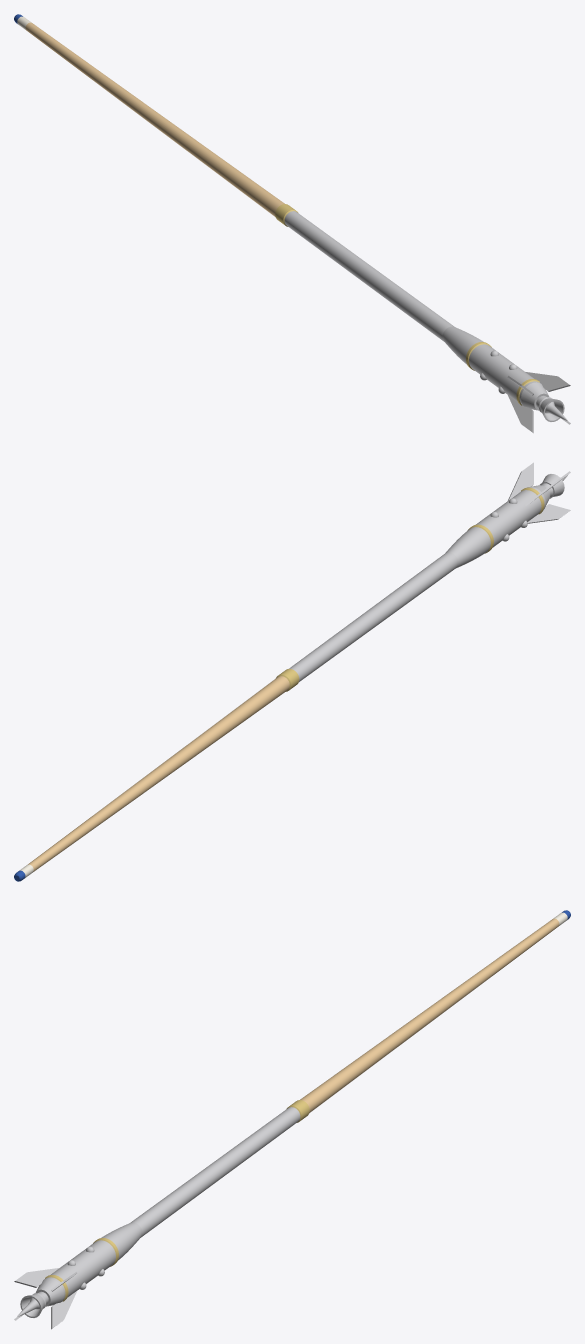
The model's file is cue_rocket.glb.
3 renders of one model, top to bottom at view 1: azimuth 30°, elevation 25°; view 2: azimuth 150°, elevation 25°; view 3: azimuth 330°, elevation 25°, orthographic.
Parts seen in each view (by area): view 1: shaft, grip, body, fin, nose; view 2: shaft, grip, body, nose, fin, metal; view 3: shaft, grip, body, fin, nose.
Part boxes in pixels (bbox=[...]): shaft: bbox=[25, 22, 284, 216]; grip: bbox=[284, 211, 454, 341]; body: bbox=[469, 344, 549, 410]; fin: bbox=[507, 372, 570, 433]; nose: bbox=[442, 326, 483, 364]; shaft: bbox=[28, 676, 289, 871]; grip: bbox=[289, 552, 458, 681]; body: bbox=[475, 485, 550, 547]; nose: bbox=[445, 527, 490, 567]; fin: bbox=[508, 462, 570, 523]; metal: bbox=[276, 487, 544, 691]; shaft: bbox=[300, 918, 559, 1112]; grip: bbox=[130, 1107, 300, 1237]; body: bbox=[35, 1240, 115, 1306]; fin: bbox=[14, 1268, 77, 1329]; nose: bbox=[101, 1222, 142, 1260].
Size of the model in its own units: 0.0598 by 0.0598 by 1.49.
